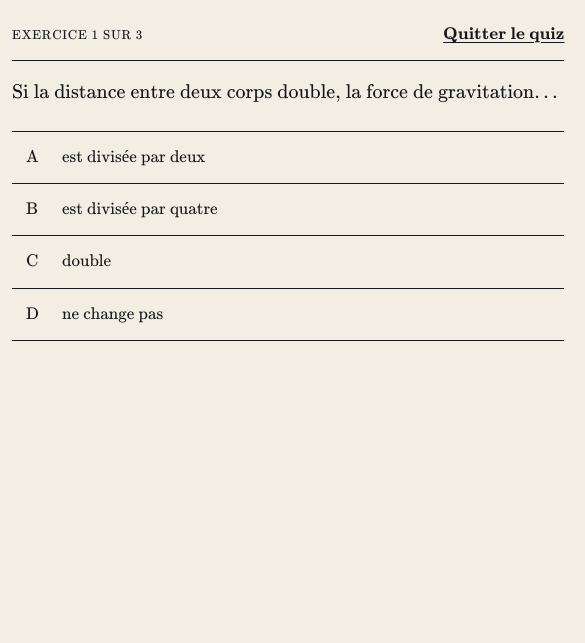
it: a wrong answer › falls back to a link without number when the scene has none
Click the button "A est divisée par deux". click: point(134, 157)
box: x1=12 y1=132 x2=564 y2=183
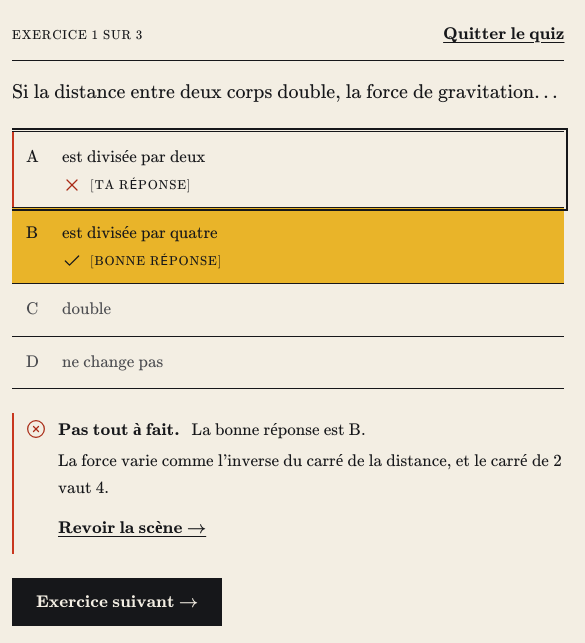
Check: the button "Revoir la scène →" is shown, box x1=58 y1=506 x2=206 y2=550
